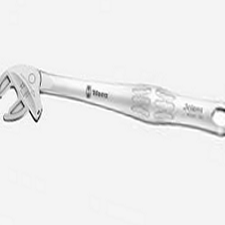Wrench: (3, 56, 225, 150)
